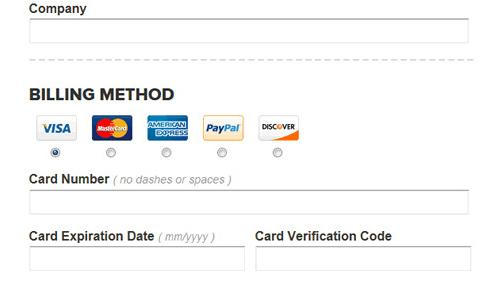field: (27, 188, 472, 216), (22, 17, 470, 43), (254, 244, 473, 273), (30, 244, 247, 272)
field_with_label: (24, 173, 476, 219), (17, 3, 473, 47), (252, 230, 475, 276), (27, 230, 248, 275)
radio: (49, 145, 62, 159), (272, 145, 285, 159), (216, 146, 229, 158), (104, 147, 116, 158), (159, 146, 170, 157)
